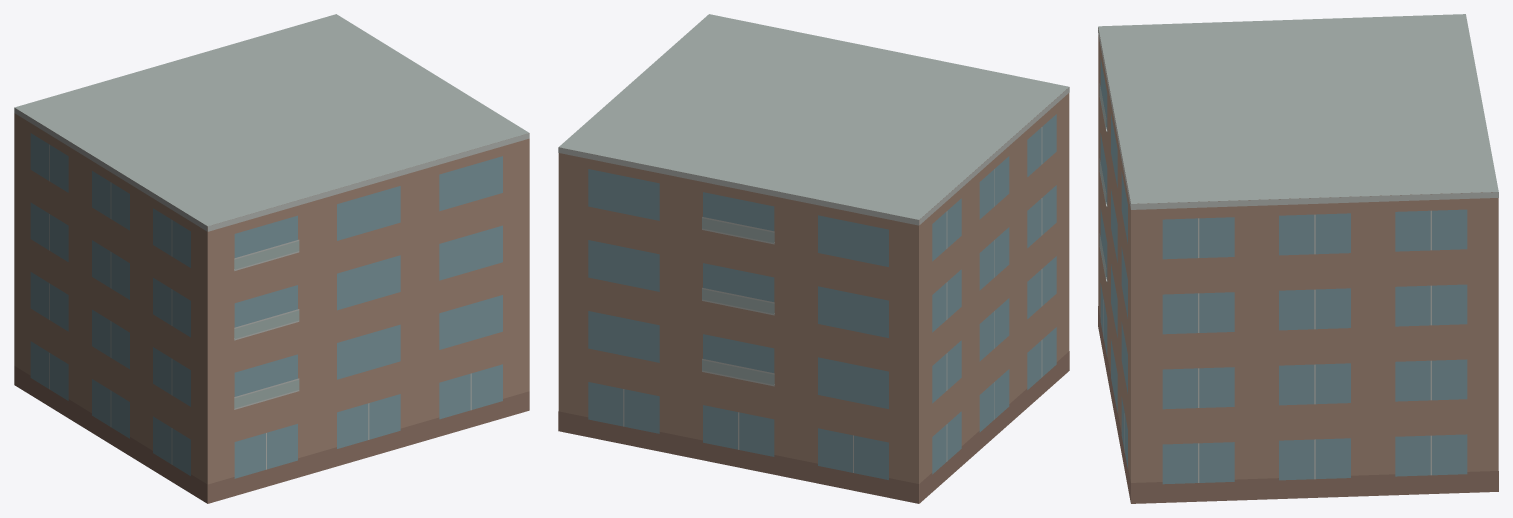
Rendered from residential-bcd278a5-795f-48bd-b801-4f4e9123d13e.glb.
3 renders of one model, left to right at view 1: azimuth 30°, elevation 25°; view 2: azimuth 150°, elevation 25°; view 3: azimuth 270°, elevation 25°, orthographic. The views are drawn at different scales.
Parts seen in each view (by area): view 1: residential-bcd278a5-795f-48bd-b801-4f4e9123d13e.tmp; view 2: residential-bcd278a5-795f-48bd-b801-4f4e9123d13e.tmp; view 3: residential-bcd278a5-795f-48bd-b801-4f4e9123d13e.tmp.
Boxes of the visible parts, x1=… form: residential-bcd278a5-795f-48bd-b801-4f4e9123d13e.tmp: x1=14, y1=14, x2=529, y2=503; residential-bcd278a5-795f-48bd-b801-4f4e9123d13e.tmp: x1=558, y1=14, x2=1069, y2=503; residential-bcd278a5-795f-48bd-b801-4f4e9123d13e.tmp: x1=1098, y1=14, x2=1498, y2=503.
Size of the model in its own units: 16.59 by 12.2 by 14.78.
